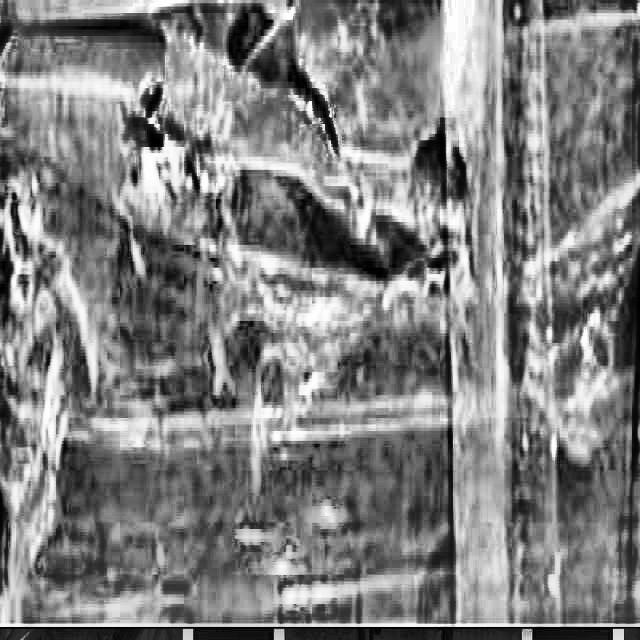box: (0, 0, 640, 630)
hole: (218, 0, 360, 165)
